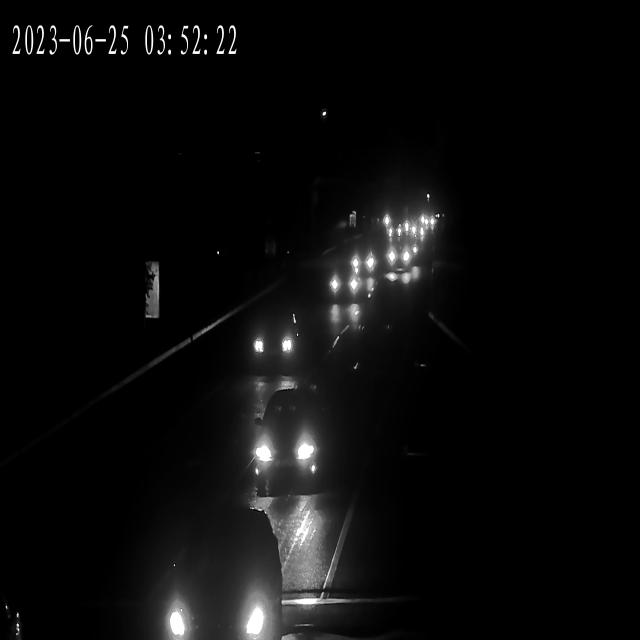Car: (170, 514, 292, 640), (251, 393, 327, 491), (247, 313, 300, 370), (326, 266, 364, 301), (346, 242, 378, 274), (382, 244, 415, 272), (385, 240, 417, 268), (384, 222, 404, 237), (393, 220, 413, 234), (403, 221, 422, 235), (408, 226, 426, 240), (385, 225, 401, 240), (383, 222, 398, 238), (417, 215, 434, 227)
